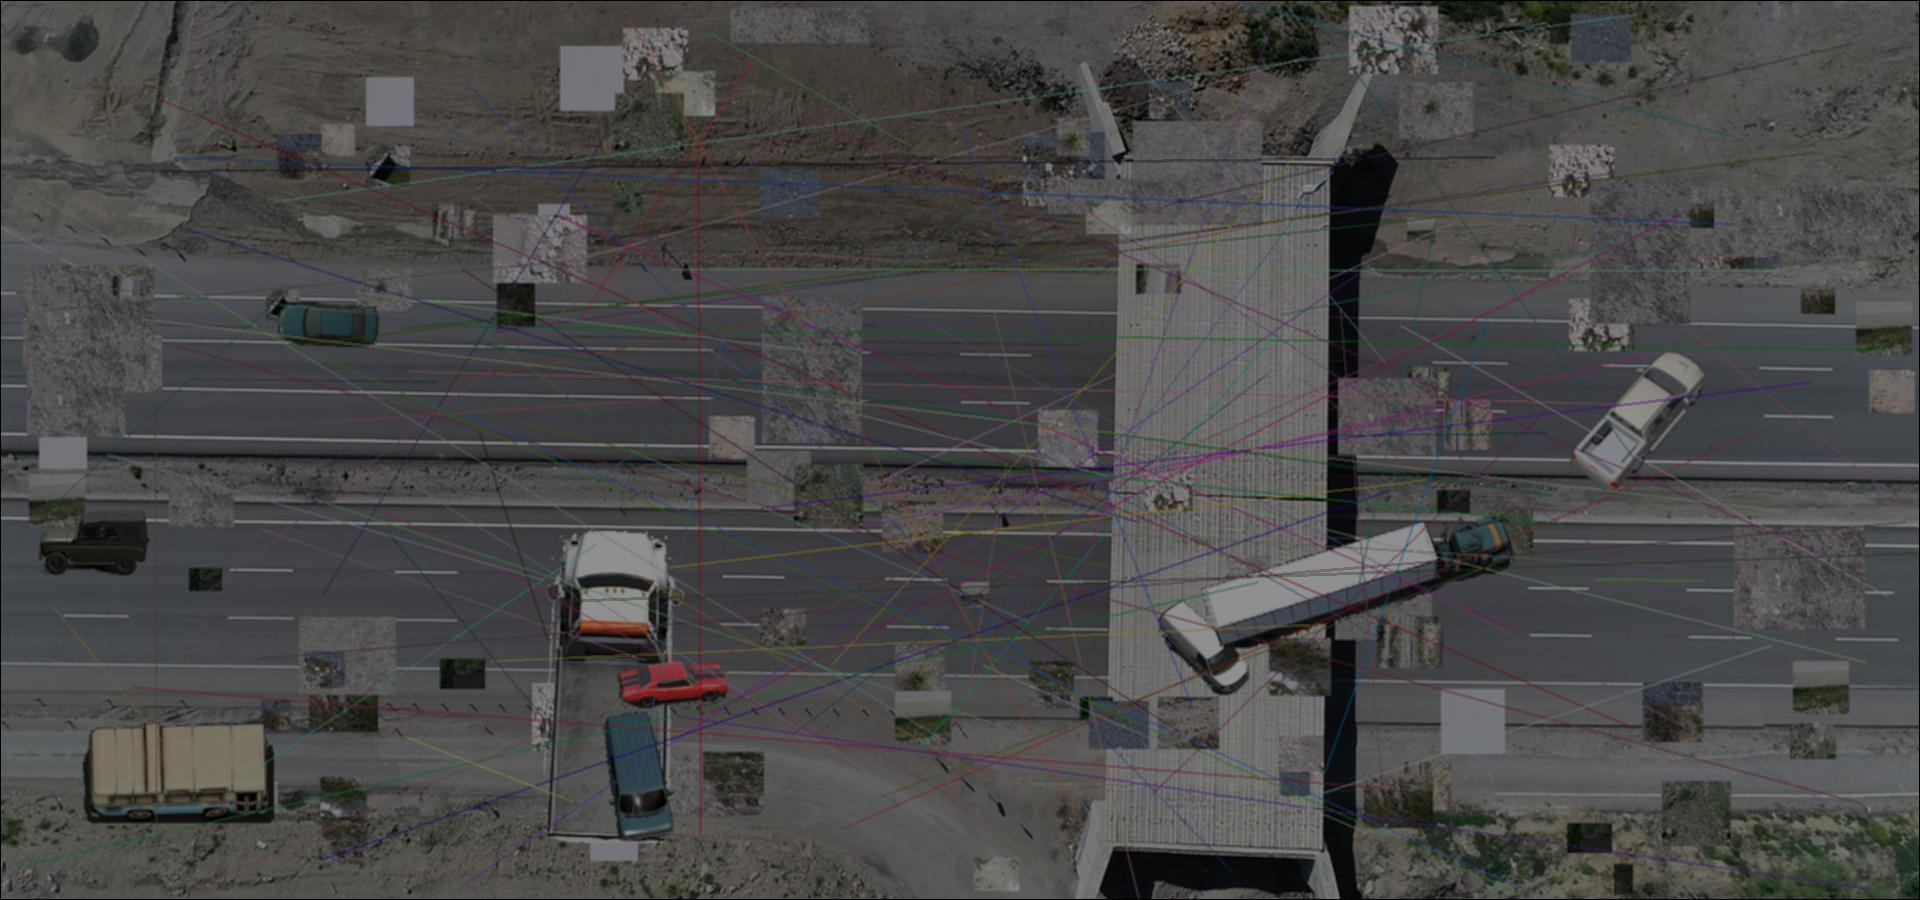arac: (1194, 507, 1515, 648), (544, 531, 684, 842), (1566, 347, 1714, 498), (78, 722, 274, 823), (602, 711, 675, 841), (1158, 598, 1250, 696), (38, 509, 149, 576), (616, 660, 732, 708), (278, 302, 384, 347)
